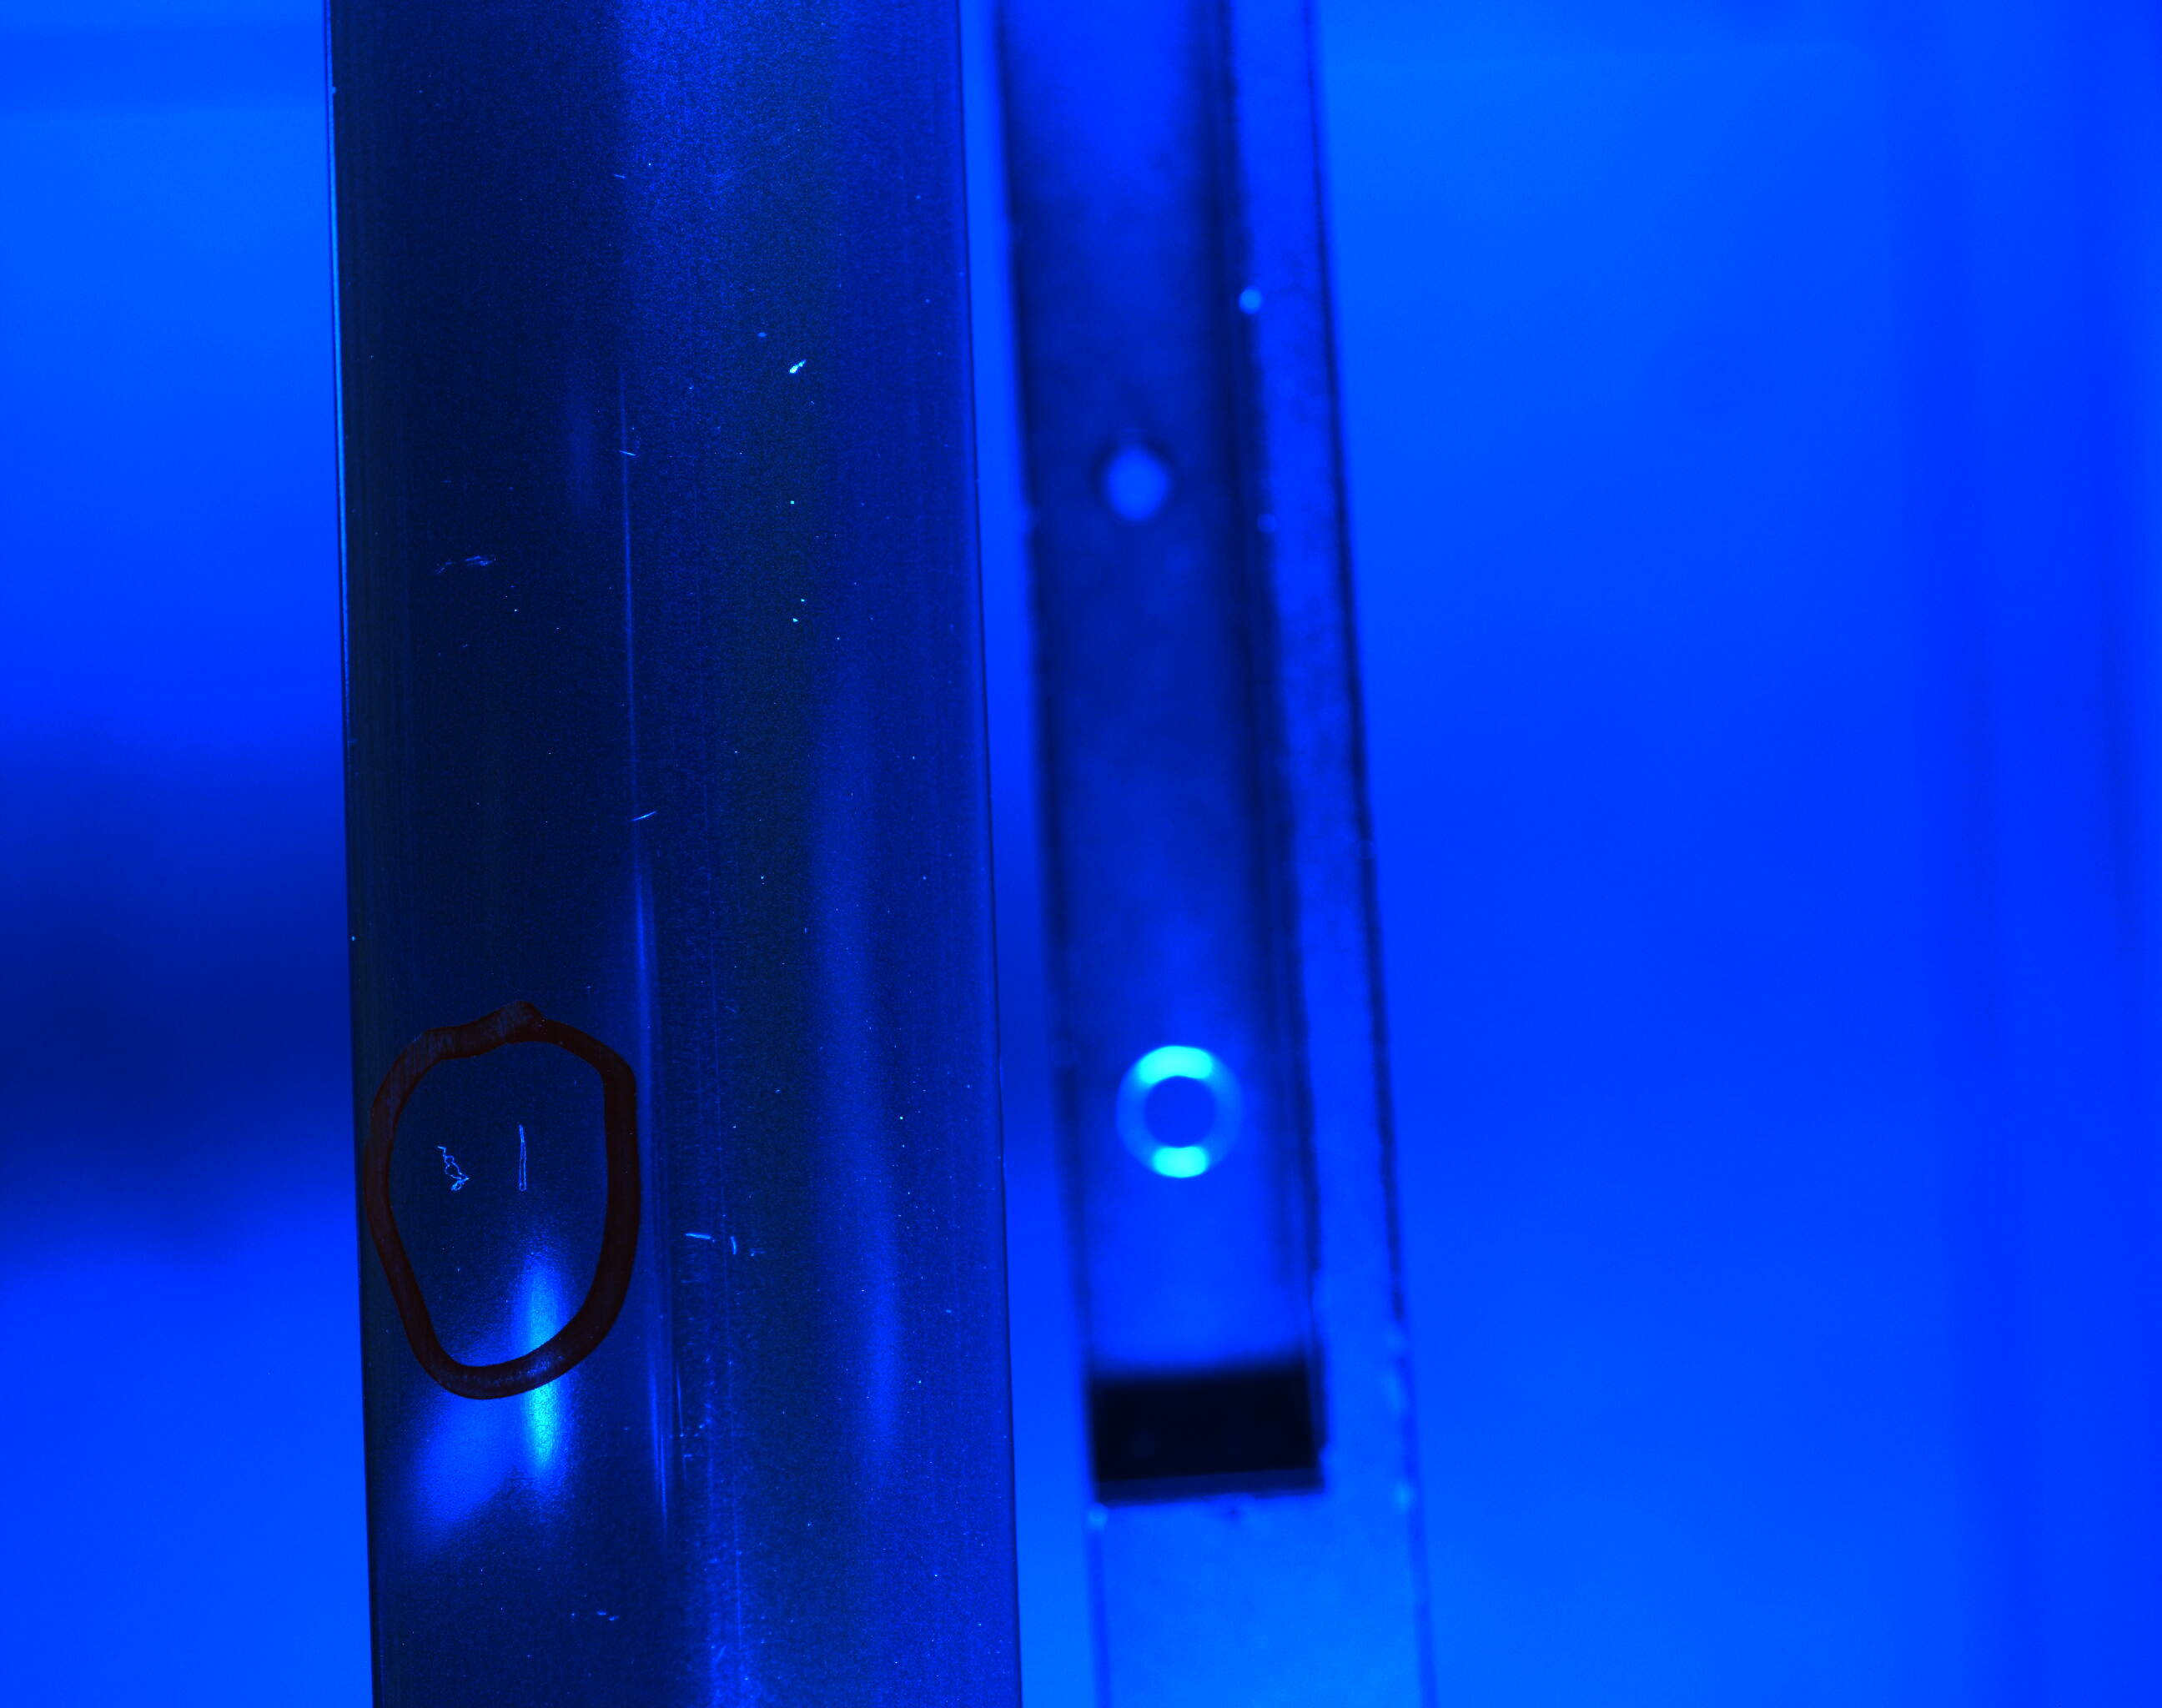NG: (426, 1118, 567, 1227), (435, 525, 525, 620), (683, 1199, 765, 1283), (612, 779, 677, 862), (765, 337, 816, 397)
